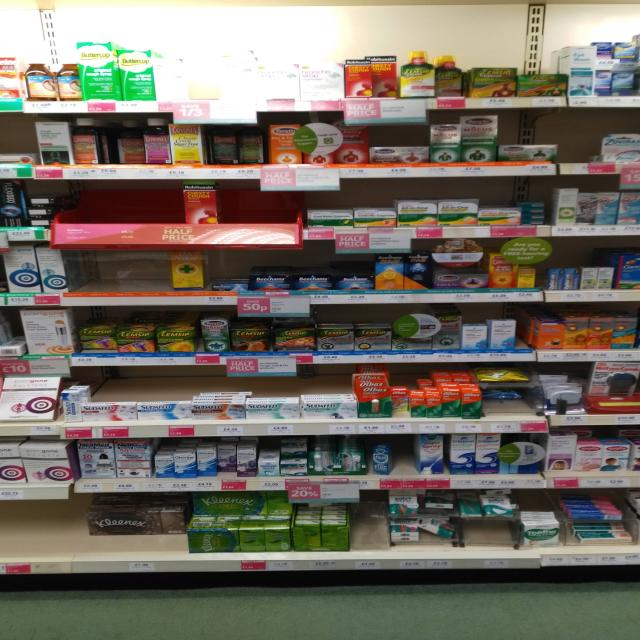void: (1, 502, 82, 564), (66, 182, 178, 225), (73, 248, 167, 291), (224, 182, 296, 225), (350, 492, 385, 552), (562, 109, 599, 164)
